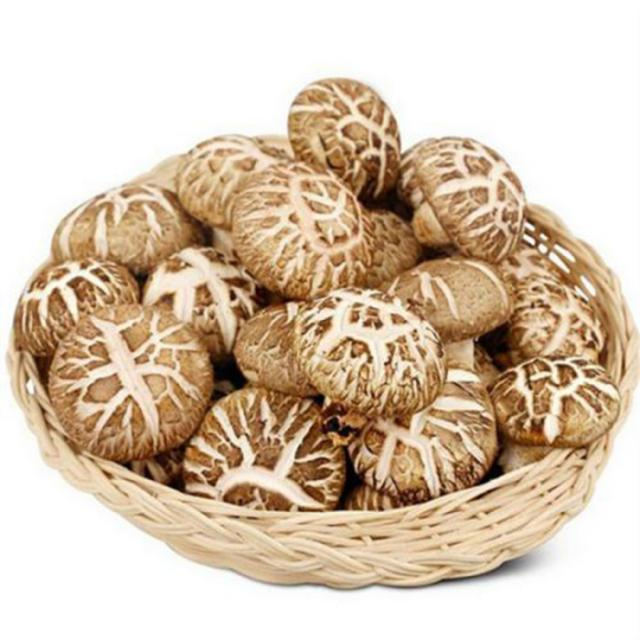Lentinus edodes: (54, 301, 212, 458), (185, 390, 349, 510), (297, 286, 444, 412), (232, 162, 367, 292), (362, 369, 501, 493), (402, 132, 525, 261), (382, 257, 516, 366), (286, 77, 400, 200), (146, 246, 269, 351), (16, 256, 139, 355), (490, 354, 621, 445), (50, 185, 195, 261), (174, 134, 285, 225), (507, 278, 605, 361)
